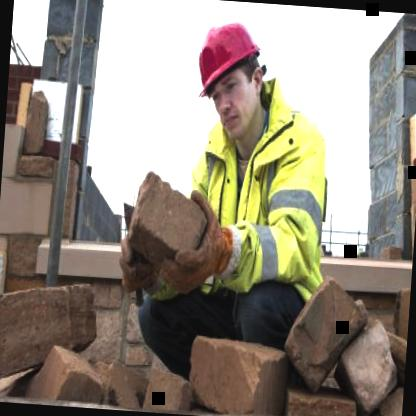helmet: (182, 3, 278, 150)
